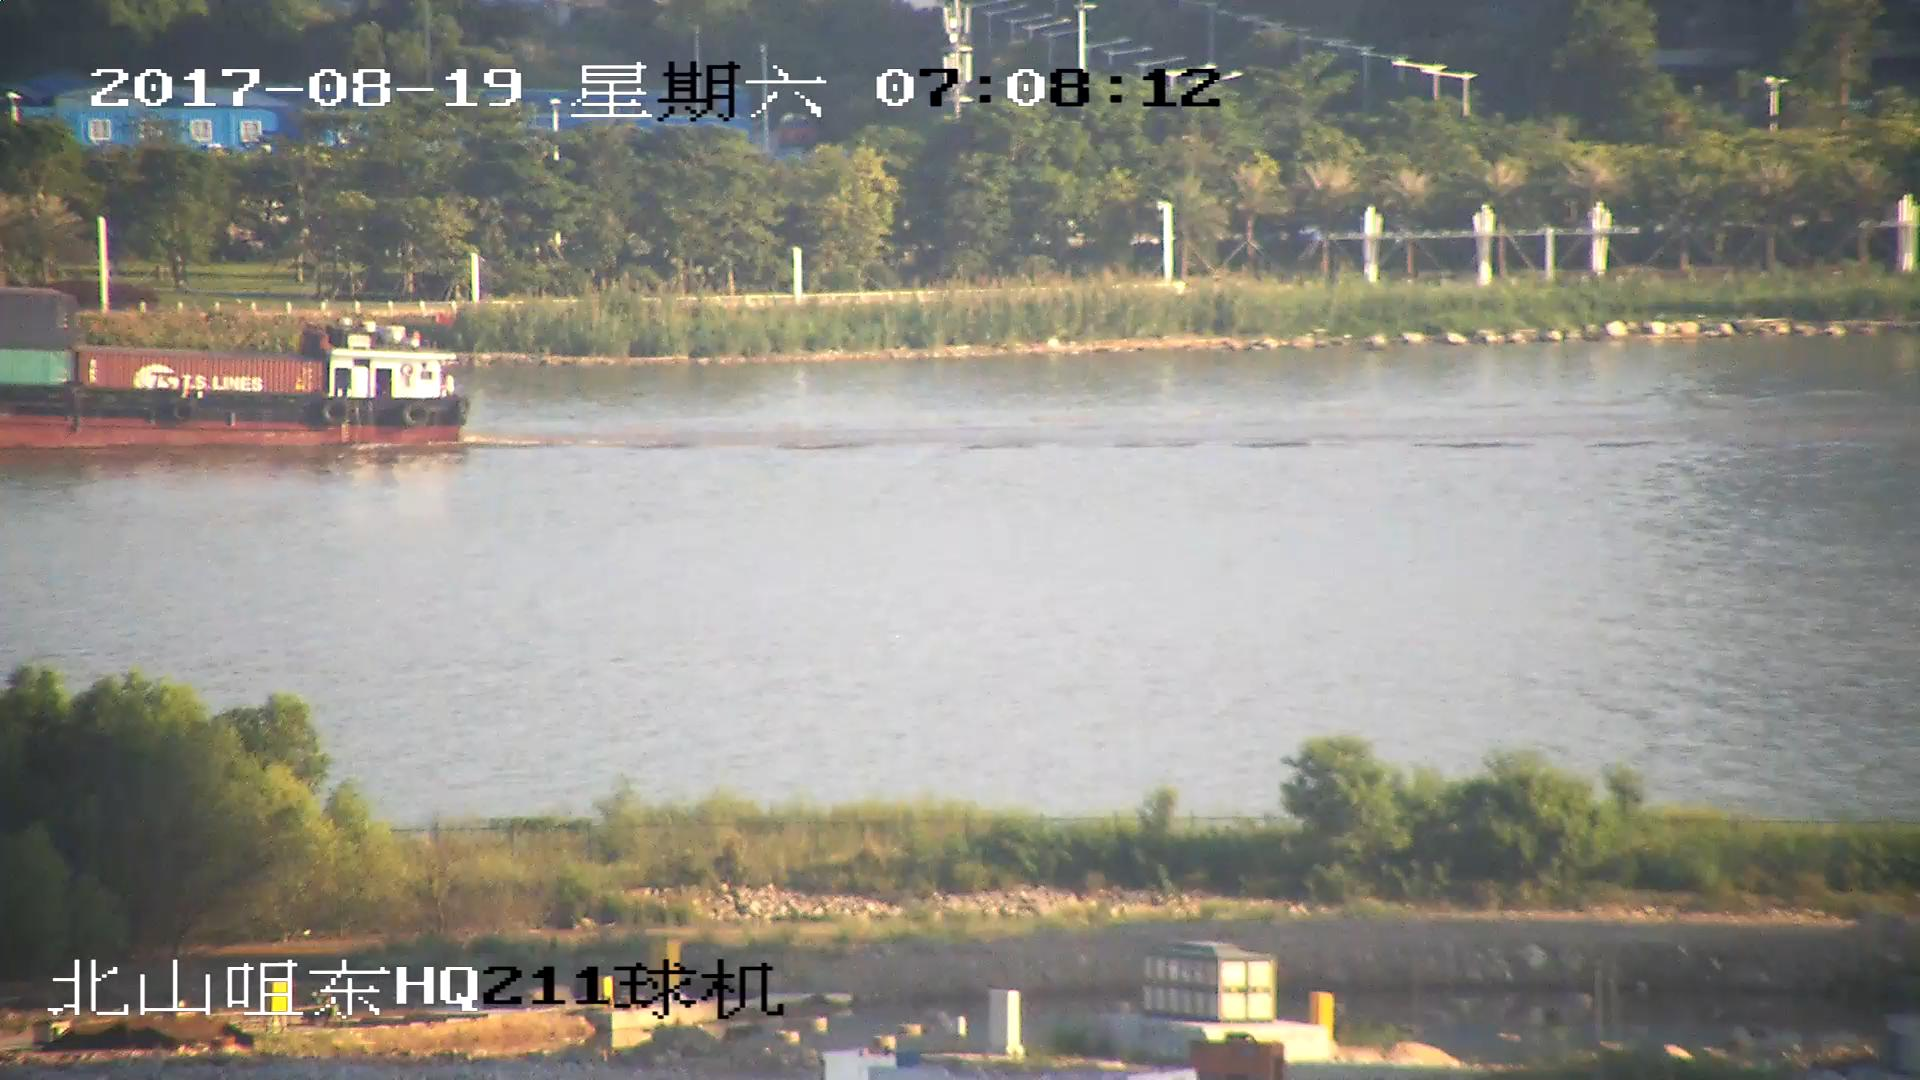container ship: (1, 281, 473, 456)
